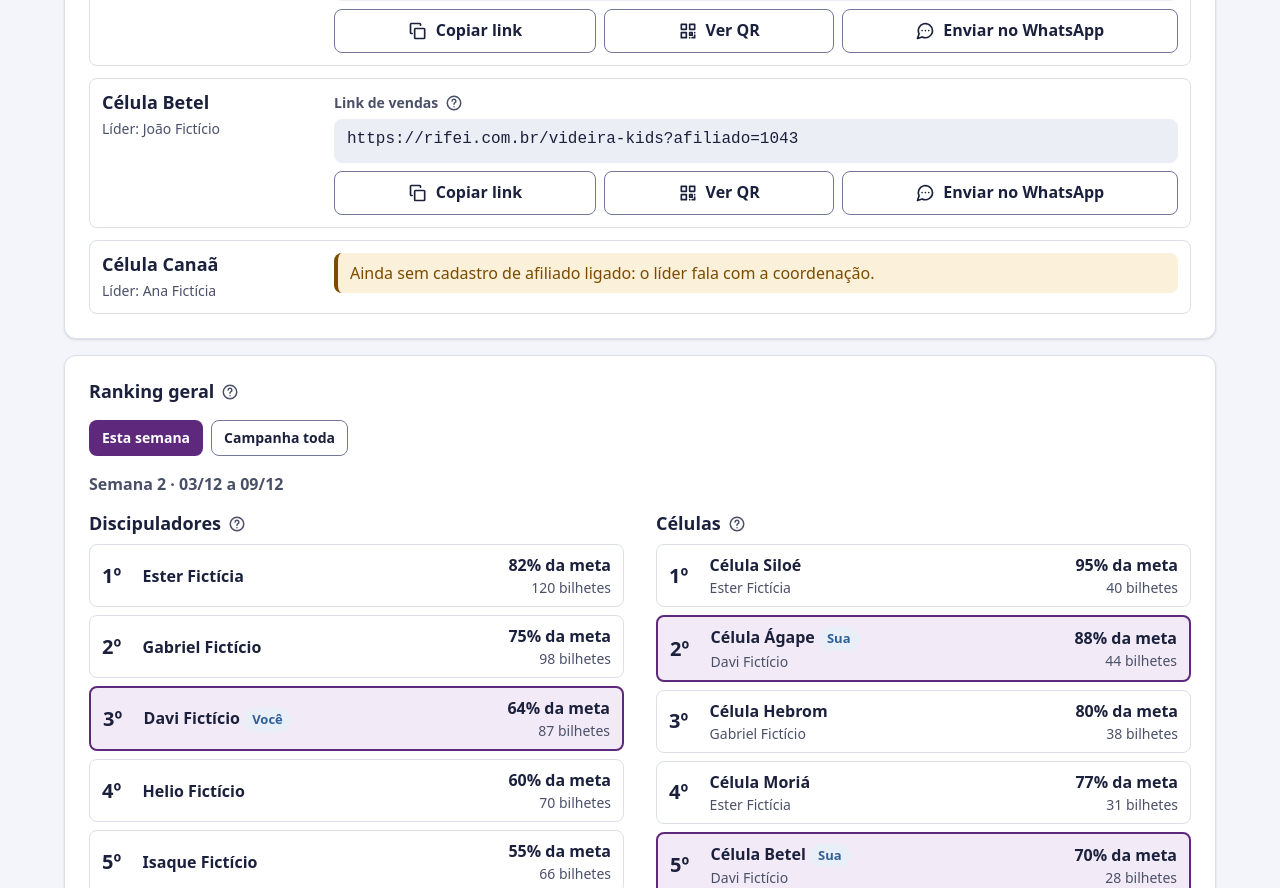
Test: RIFA-090: o ranking geral na /minha do discipulador › a troca de janela: 'Campanha toda' pede a campanha e mostra o ranking dela; volta para a semana
The width and height of the screenshot is (1280, 888).
(page scrolled)
Expected: the heading "Discipuladores" is shown, [89,514,221,535]
Click the button "Campanha toda".
click(280, 438)  # box [211,420,348,456]
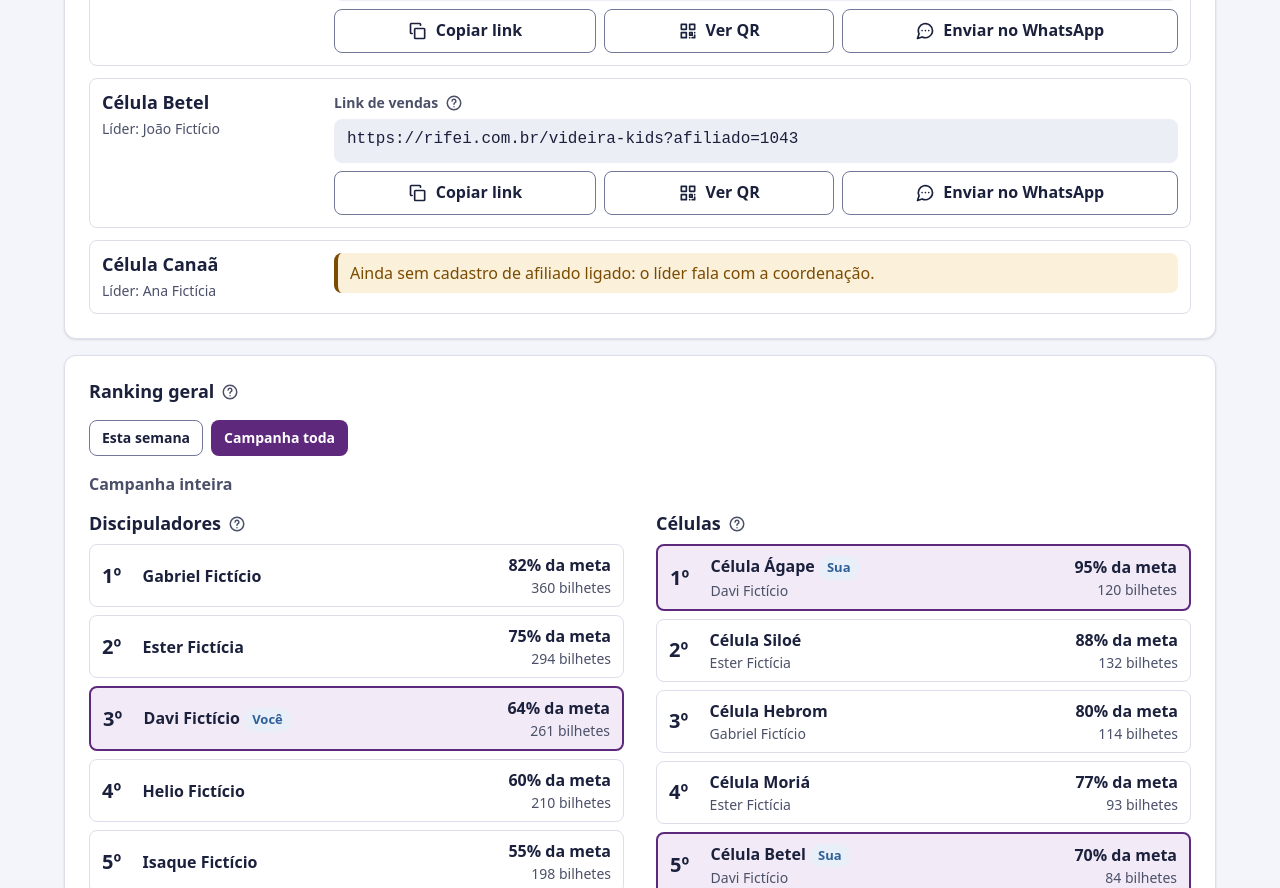
Expected: the list item "1º Gabriel Fictício 82% da meta 360 bilhetes" is shown, [89,544,624,607]
Expected: the element "Ranking geral" shows "Campanha inteira", [89,473,232,495]
Click the button "Esta semana".
click(146, 438)  # box [89,420,203,456]
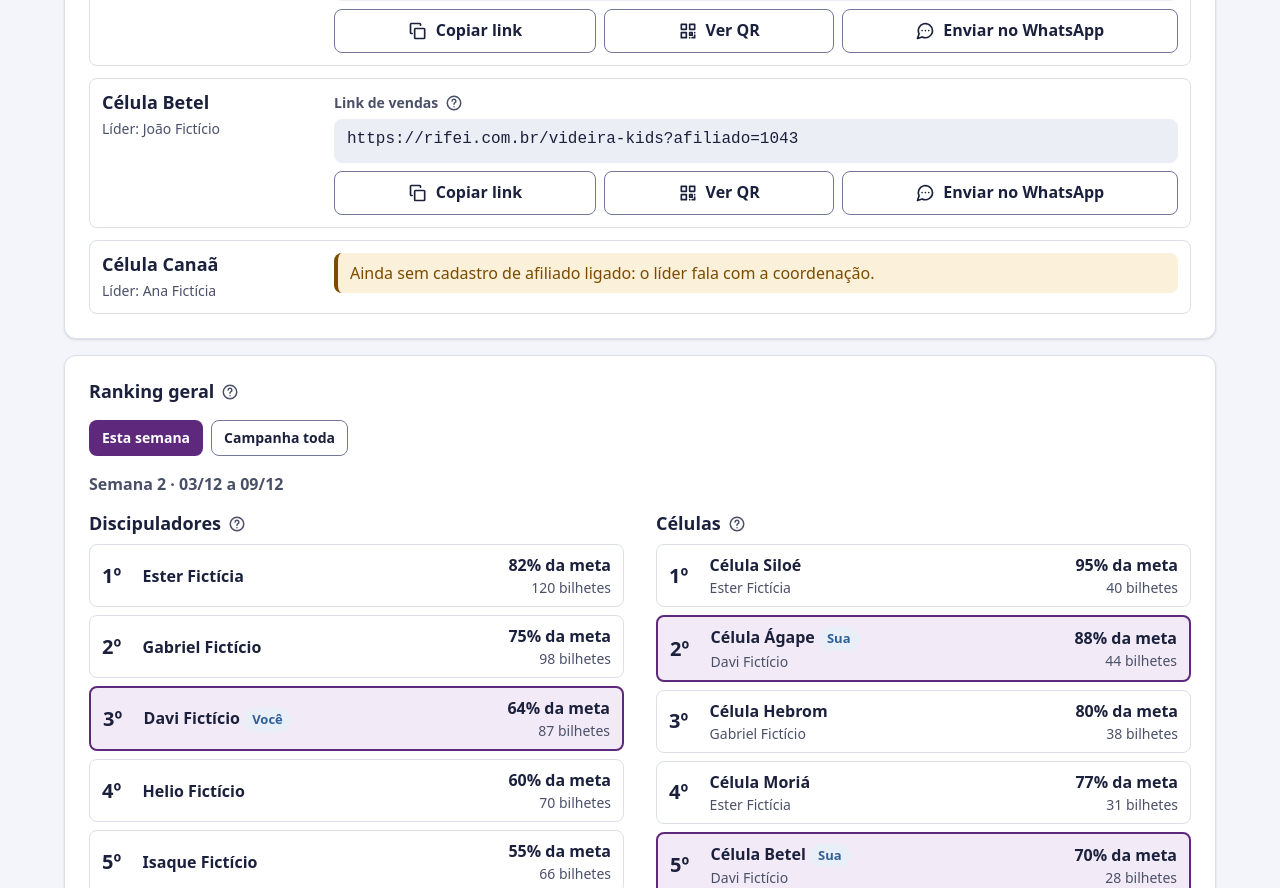
Expected: the list item "1º Ester Fictícia 82% da meta 120 bilhetes" is shown, [89,544,624,607]
